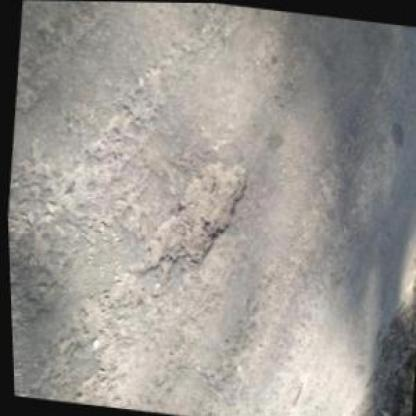pothole: (134, 147, 254, 286)
